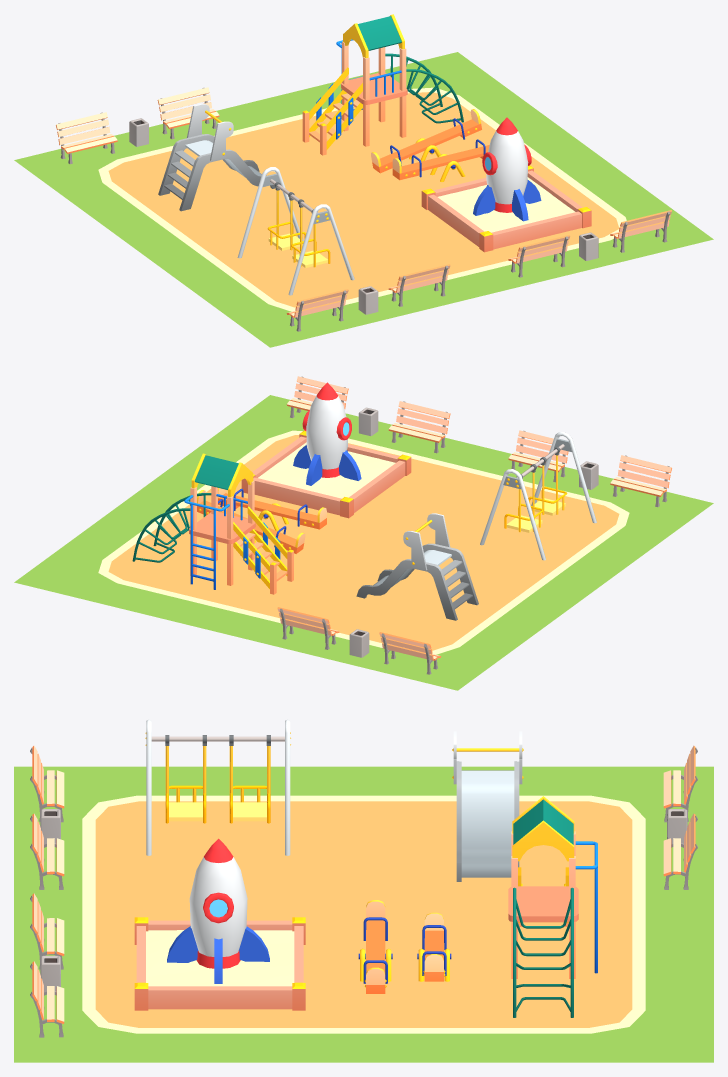
File: Entertainment_PlayGround_01.glb
The picture shows the model from 3 angles, top to bottom: view 1: azimuth 30°, elevation 25°; view 2: azimuth 150°, elevation 25°; view 3: azimuth 270°, elevation 25°; orthographic projection. The views are drawn at different scales.
Visible parts, largest first — view 1: Entertainment_PlayGround_01; view 2: Entertainment_PlayGround_01; view 3: Entertainment_PlayGround_01.
Boxes of the visible parts, x1,y1,x2,y2 form: Entertainment_PlayGround_01: (14, 14, 713, 347); Entertainment_PlayGround_01: (14, 376, 713, 690); Entertainment_PlayGround_01: (14, 719, 713, 1062).
Size of the model in its own units: 15 by 3.77 by 15.
Materials: 1 (1 with a texture image).
